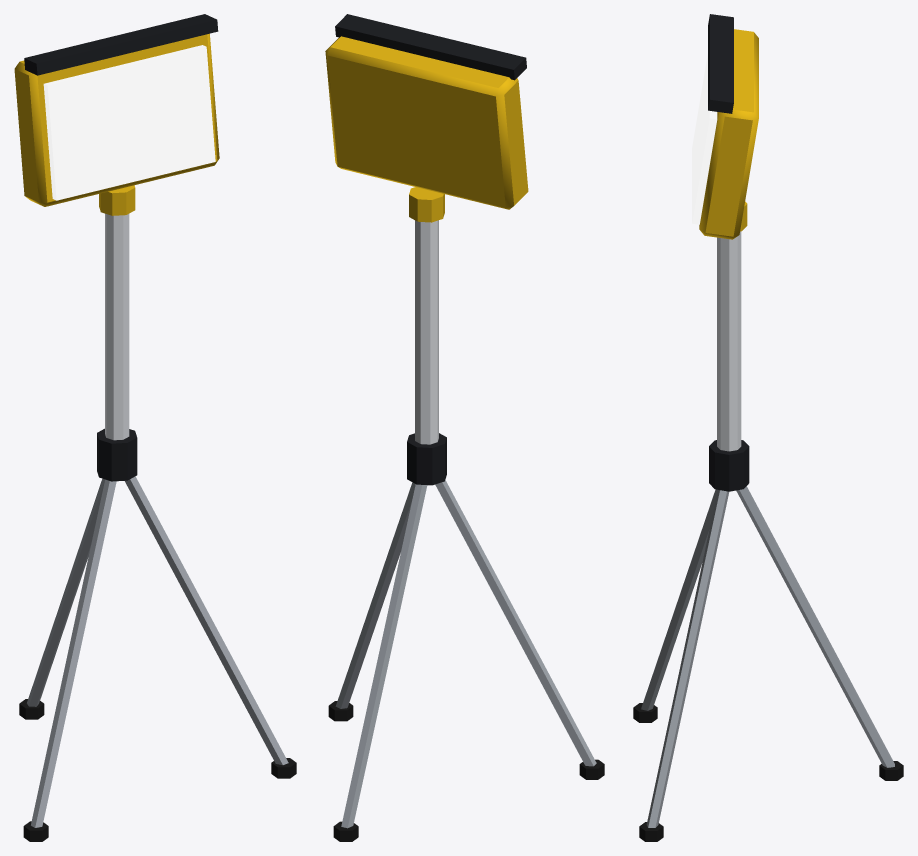
Rendered from engtool_portable_work_light.glb.
The picture shows the model from 3 angles, left to right: view 1: azimuth 30°, elevation 25°; view 2: azimuth 150°, elevation 25°; view 3: azimuth 270°, elevation 25°; orthographic projection. The views are drawn at different scales.
Parts seen in each view (by area): view 1: engtool_portable_work_light; view 2: engtool_portable_work_light; view 3: engtool_portable_work_light.
Part boxes in pixels (box(x1,y1,x2,y2)): engtool_portable_work_light: box(14, 14, 296, 841); engtool_portable_work_light: box(325, 14, 604, 841); engtool_portable_work_light: box(633, 14, 903, 841).
Size of the model in its own units: 0.7458 by 1.96 by 0.6662.
